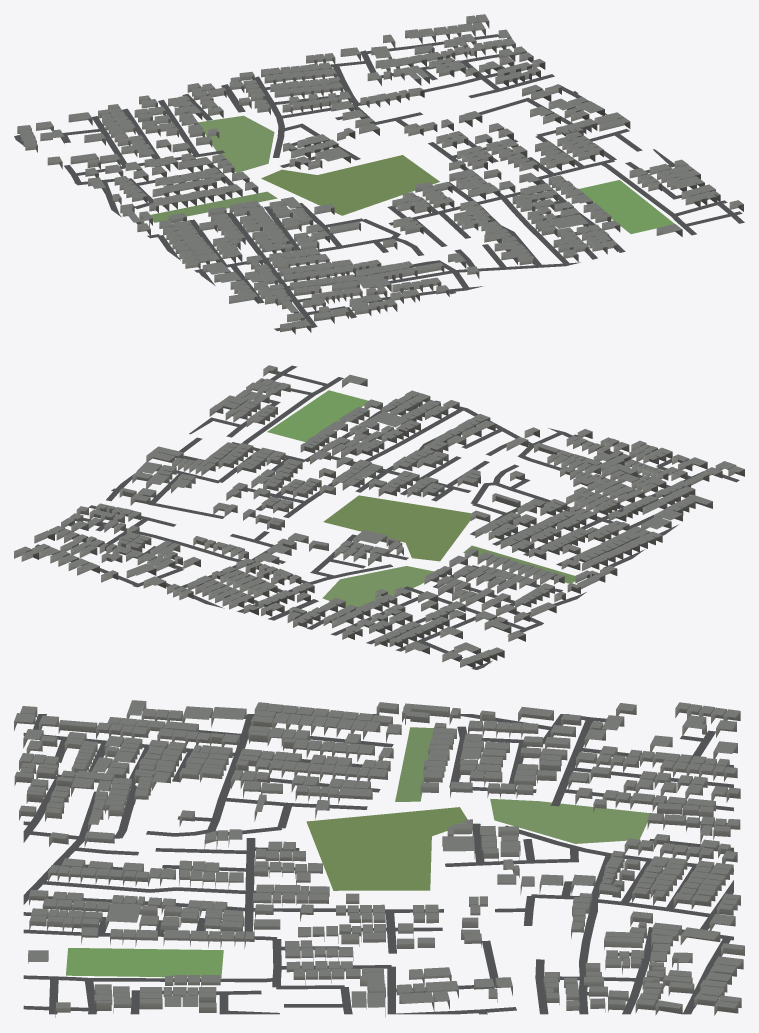
3 views of the same model, one above another, from view 1: azimuth 30°, elevation 25°; view 2: azimuth 150°, elevation 25°; view 3: azimuth 270°, elevation 25° (orthographic). The views are drawn at different scales.
Visible parts, largest first — view 1: building, ground; view 2: building, ground; view 3: building, ground.
Boxes of the visible parts, x1=… form: building: x1=17, y1=14, x2=743, y2=334; ground: x1=14, y1=34, x2=744, y2=330; building: x1=14, y1=365, x2=744, y2=667; ground: x1=35, y1=365, x2=739, y2=669; building: x1=14, y1=700, x2=744, y2=1017; ground: x1=23, y1=714, x2=733, y2=1014.
Bounding box in the file's own units: 514 × 8 × 515.
